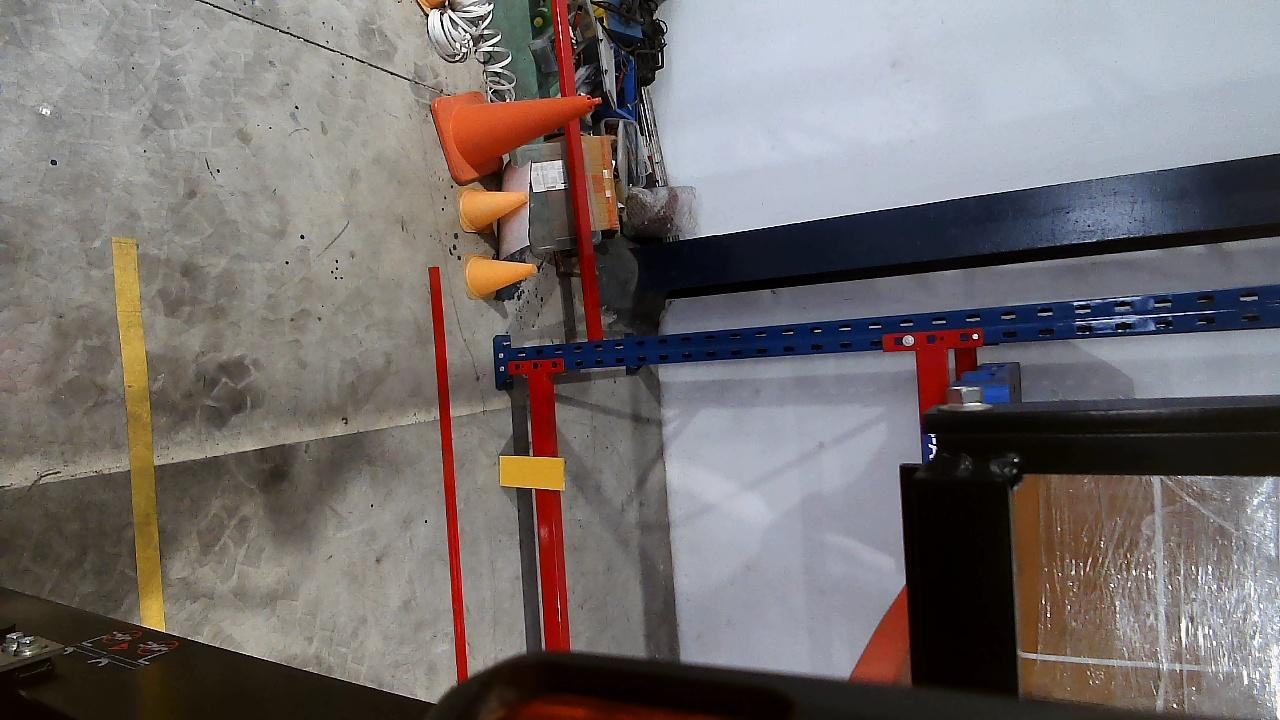h_rack: (525, 372, 566, 653)
orange_strip: (499, 455, 565, 489)
red_line: (427, 268, 468, 678)
yellow_line: (109, 235, 164, 628)
